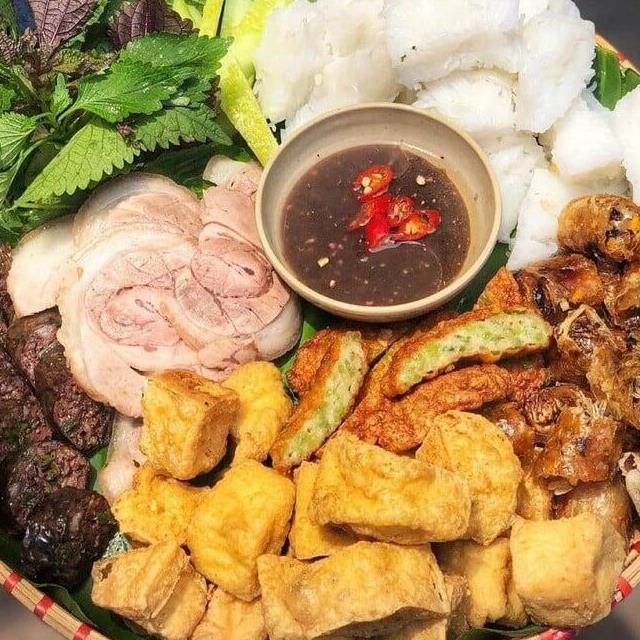bun: (240, 0, 640, 284)
bun dau: (0, 0, 640, 640)
cha com: (340, 290, 564, 457), (255, 324, 376, 482)
cha gio: (491, 190, 640, 531)
dau hu: (251, 526, 457, 640), (178, 450, 302, 606), (404, 404, 534, 550), (502, 504, 634, 634), (82, 533, 215, 640), (132, 362, 242, 484), (103, 452, 220, 560), (212, 356, 298, 476), (171, 573, 285, 640)
doi sun: (0, 302, 119, 452), (13, 480, 124, 598), (0, 434, 93, 549), (0, 395, 59, 507), (0, 359, 42, 461), (0, 235, 47, 324), (0, 336, 22, 407)
thit heo: (0, 144, 319, 427)
